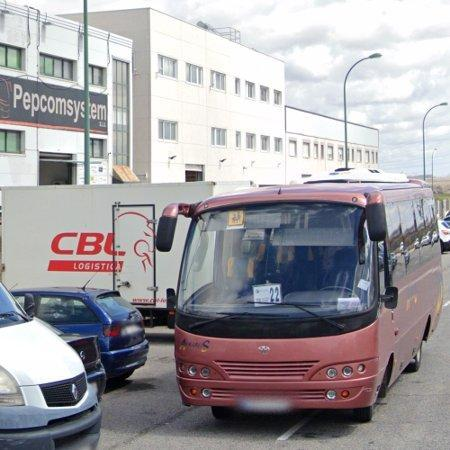buses: (156, 170, 444, 423)
